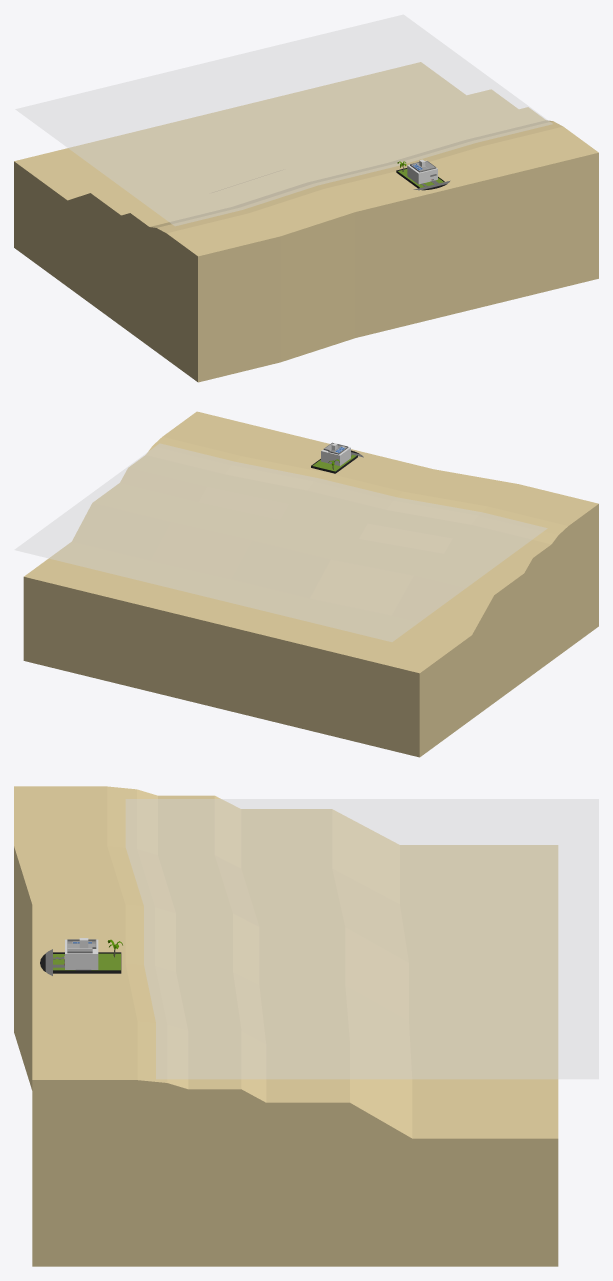
File: House-c.glb
3 renders of one model, top to bottom at view 1: azimuth 30°, elevation 25°; view 2: azimuth 150°, elevation 25°; view 3: azimuth 270°, elevation 25°, orthographic. The views are drawn at different scales.
Visible parts, largest first — view 1: sand, ocean; view 2: sand, ocean; view 3: sand, ocean, terreno, GroundRegion.
Part boxes in pixels (x1,y1,x2,y2): sand: (14, 62, 598, 382); ocean: (15, 14, 552, 225); sand: (23, 411, 598, 757); ocean: (15, 443, 547, 641); sand: (14, 786, 558, 1266); ocean: (126, 799, 598, 1078); terreno: (40, 949, 120, 975); GroundRegion: (65, 939, 98, 969).
Size of the model in its own units: 244 by 82.38 by 206.
